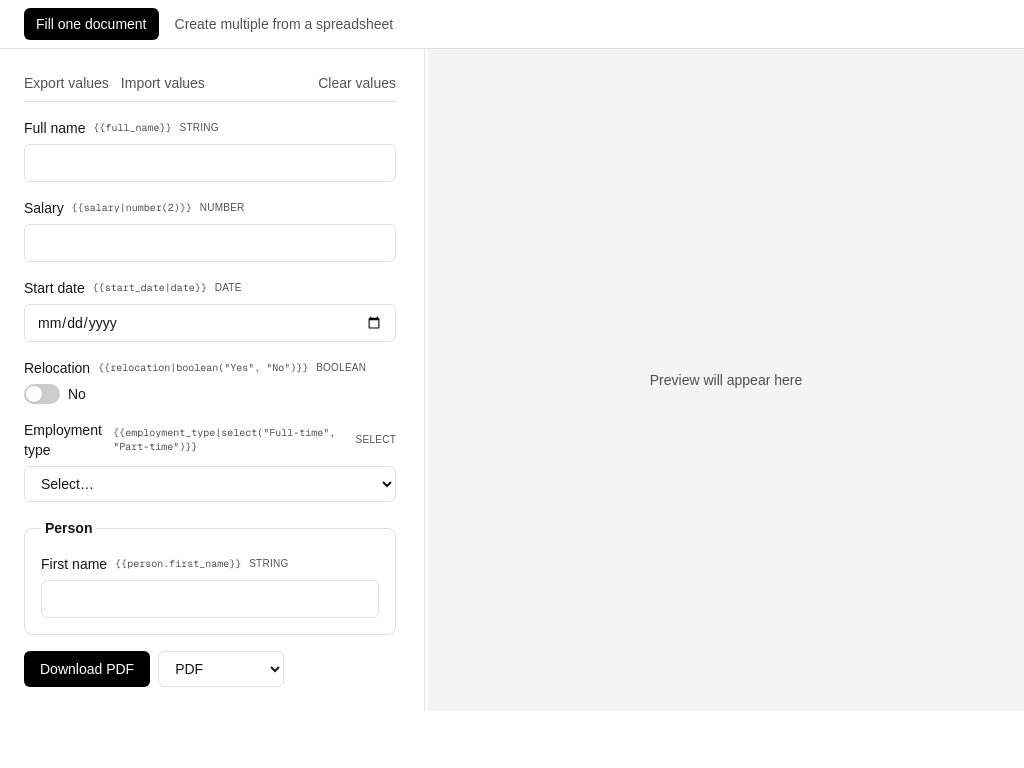
Test: FillForm — rendering, inputs & preview › toggles the boolean switch and reflects the on/off label
Expected: the text "No" is shown, top-left (24, 384), bottom-right (86, 404)
Click the switch: (42, 394) top-left (24, 384), bottom-right (60, 404)
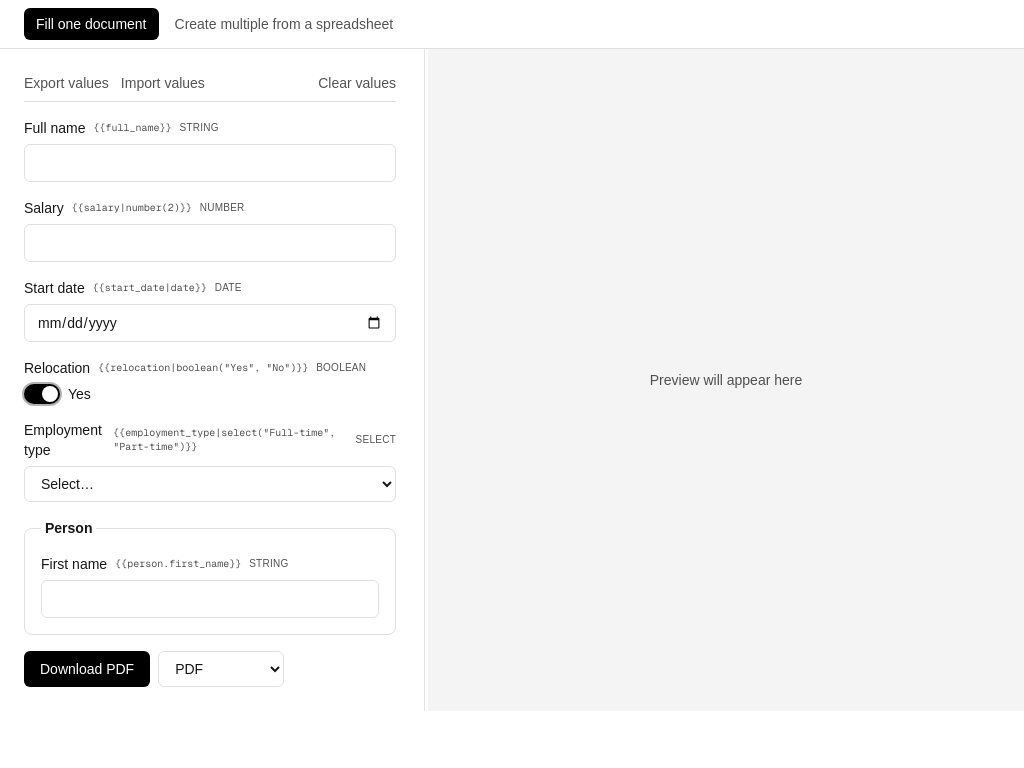
Result: the text "Yes" is shown at top-left (24, 384), bottom-right (91, 404)
